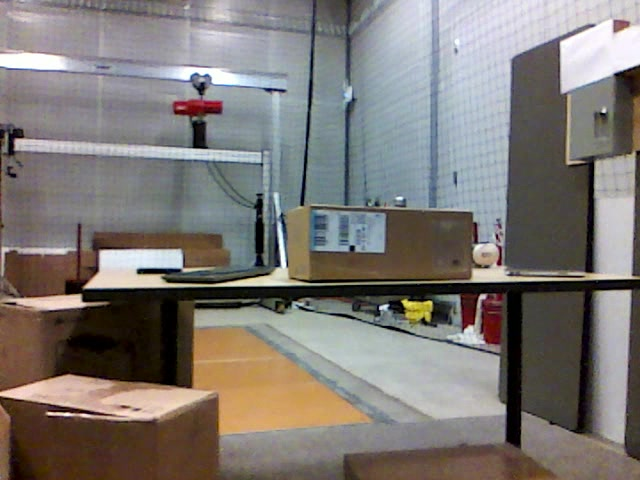box: (2, 298, 193, 475), (3, 374, 222, 480), (286, 207, 473, 279), (344, 442, 552, 480)
